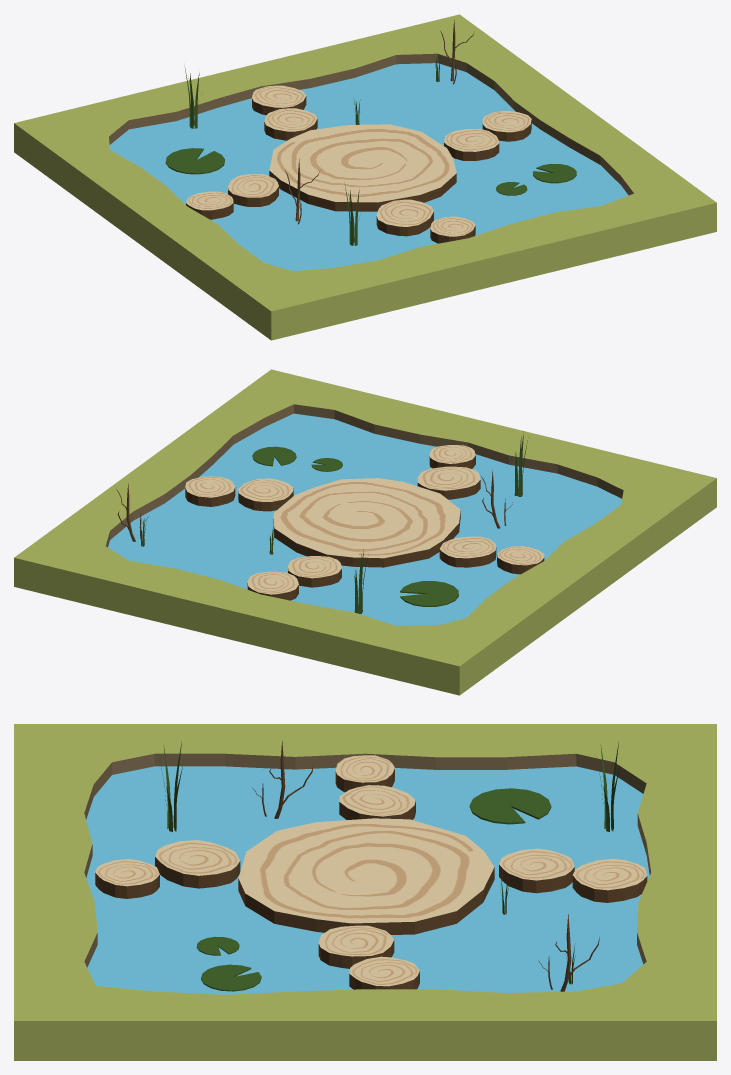
The model's file is ModelPanelBlock_Kirikabuike.fbx.
3 renders of one model, top to bottom at view 1: azimuth 30°, elevation 25°; view 2: azimuth 150°, elevation 25°; view 3: azimuth 270°, elevation 25°, orthographic. The views are drawn at different scales.
Visible parts, largest first — view 1: PanelBlock_kirikabu; view 2: PanelBlock_kirikabu; view 3: PanelBlock_kirikabu.
Boxes of the visible parts, <box> form: PanelBlock_kirikabu: <box>14,14,716,340</box>; PanelBlock_kirikabu: <box>14,369,716,695</box>; PanelBlock_kirikabu: <box>14,724,716,1060</box>.
Bounding box in the file's own units: 100 × 17.97 × 100.
6 materials, 1 textured.
